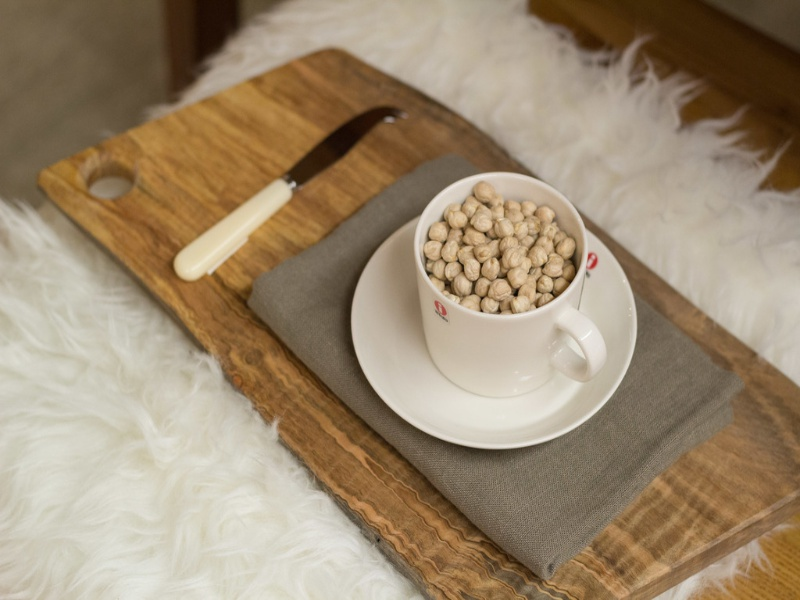knife: (169, 103, 399, 284)
